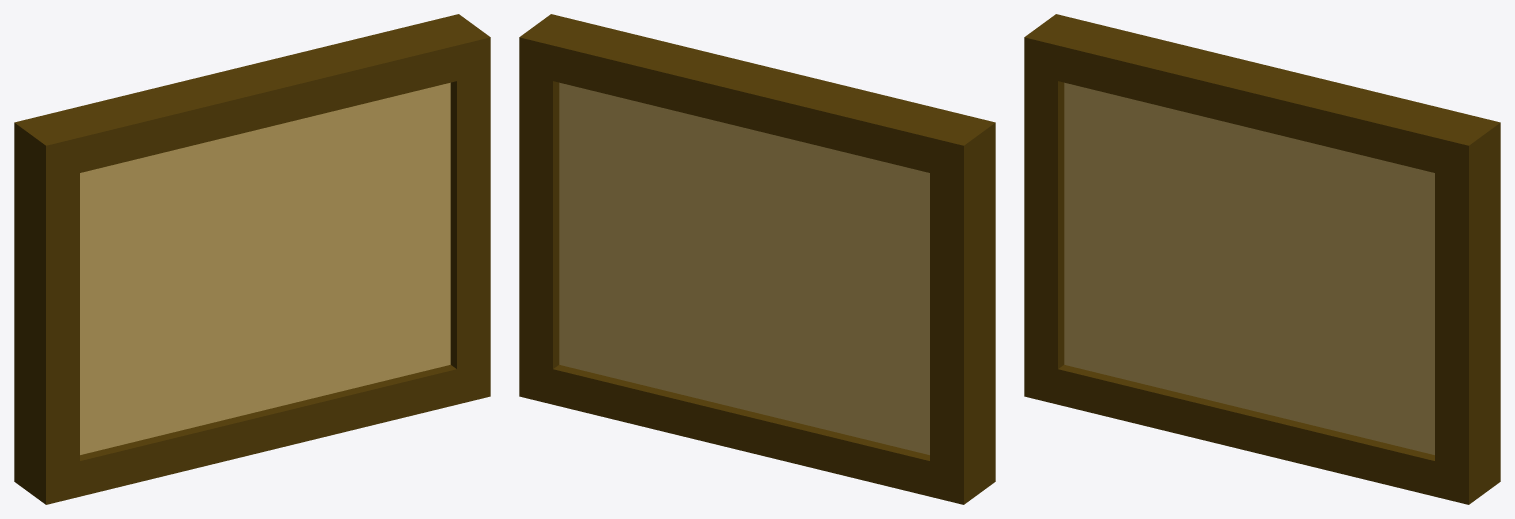
The model's file is Wall_topSmall.fbx.
The picture shows the model from 3 angles, left to right: view 1: azimuth 30°, elevation 25°; view 2: azimuth 150°, elevation 25°; view 3: azimuth 330°, elevation 25°; orthographic projection.
Parts seen in each view (by area): view 1: SmallWall_01; view 2: SmallWall_01; view 3: SmallWall_01.
Boxes of the visible parts, <box> form: SmallWall_01: <box>14,14,490,504</box>; SmallWall_01: <box>519,14,995,504</box>; SmallWall_01: <box>1024,14,1500,504</box>.
Size of the model in its own units: 261 by 201 by 32.4.
